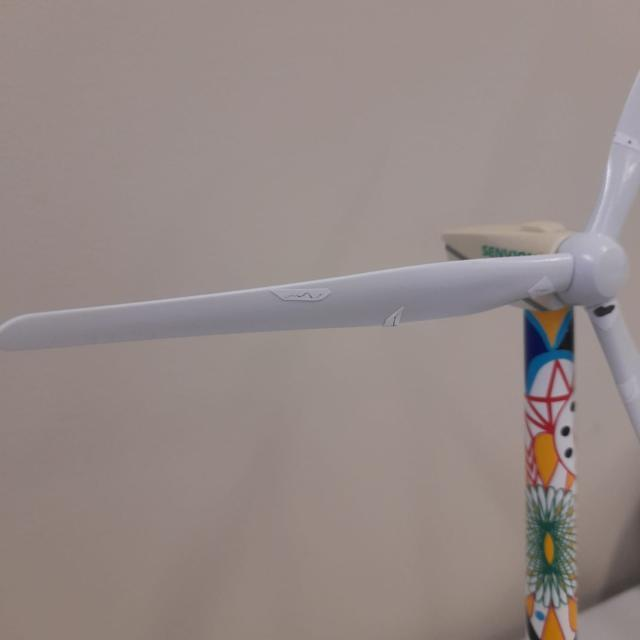dano: (279, 287, 331, 302), (588, 300, 618, 318), (622, 378, 638, 402), (532, 284, 554, 297), (389, 314, 402, 331), (622, 136, 636, 148)
